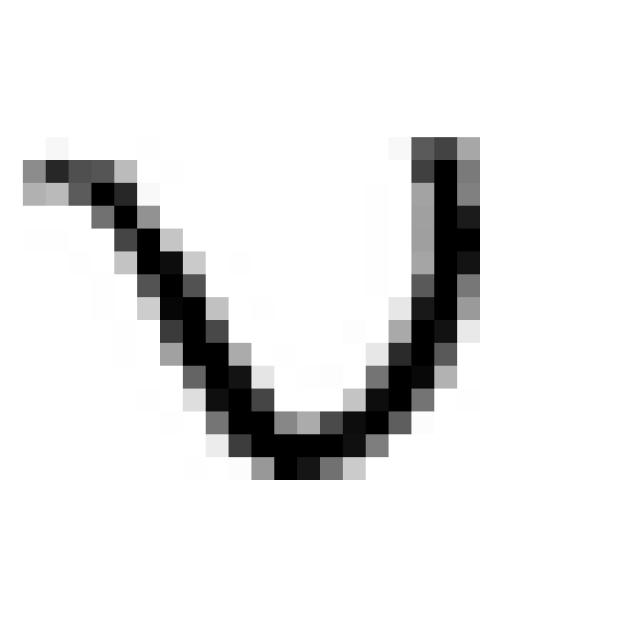7 -seven-: (7, 119, 503, 501)
